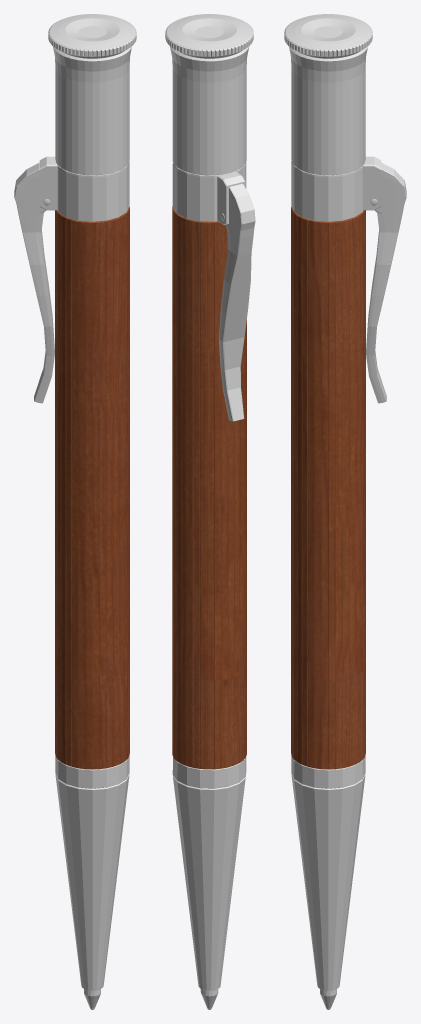
File: pen_new.glb
3 views of the same model, side by side, from view 1: azimuth 90°, elevation 25°; view 2: azimuth 210°, elevation 25°; view 3: azimuth 270°, elevation 25° (orthographic).
Visible parts, largest first — view 1: world; view 2: world; view 3: world.
Boxes of the visible parts, box(x1,y1,x2,y2) form: world: box(14, 14, 136, 1009); world: box(165, 14, 255, 1009); world: box(284, 14, 406, 1009).
Size of the model in its own units: 2.38 by 29.12 by 3.29.
2 materials, 1 textured.
